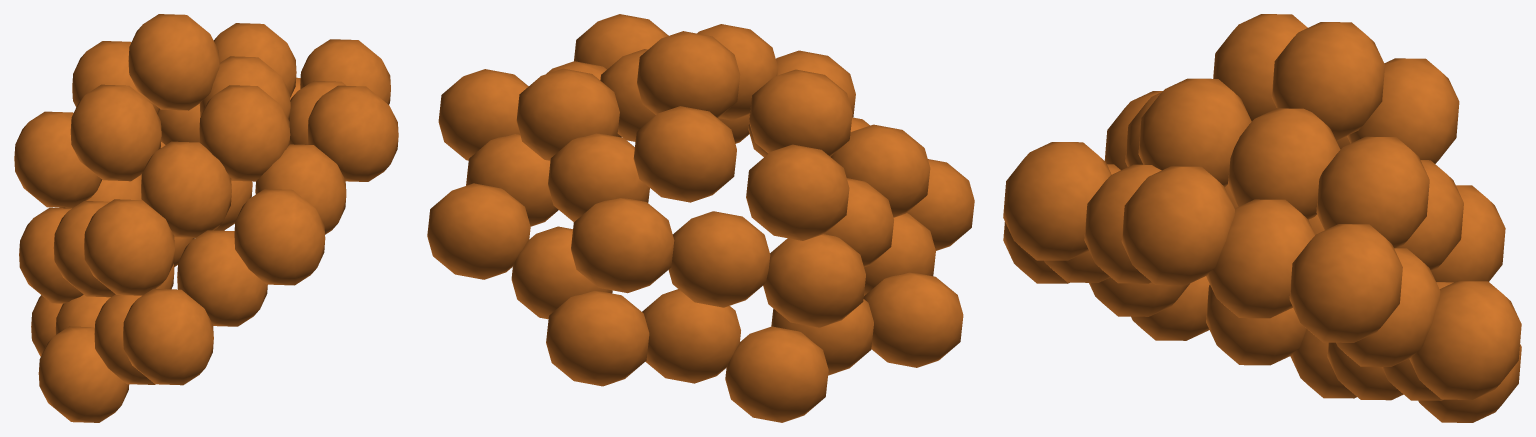
3 renders of one model, left to right at view 1: azimuth 30°, elevation 25°; view 2: azimuth 150°, elevation 25°; view 3: azimuth 270°, elevation 25°, orthographic. The views are drawn at different scales.
Parts seen in each view (by area): view 1: Round reactive granule; view 2: Round reactive granule; view 3: Round reactive granule.
Part boxes in pixels (x1,y1,x2,y2): Round reactive granule: [14, 14, 398, 422]; Round reactive granule: [427, 14, 974, 422]; Round reactive granule: [1003, 14, 1521, 422].
Size of the model in its own units: 0.8865 by 0.6933 by 0.7706.
Materials: 1 (1 with a texture image).
